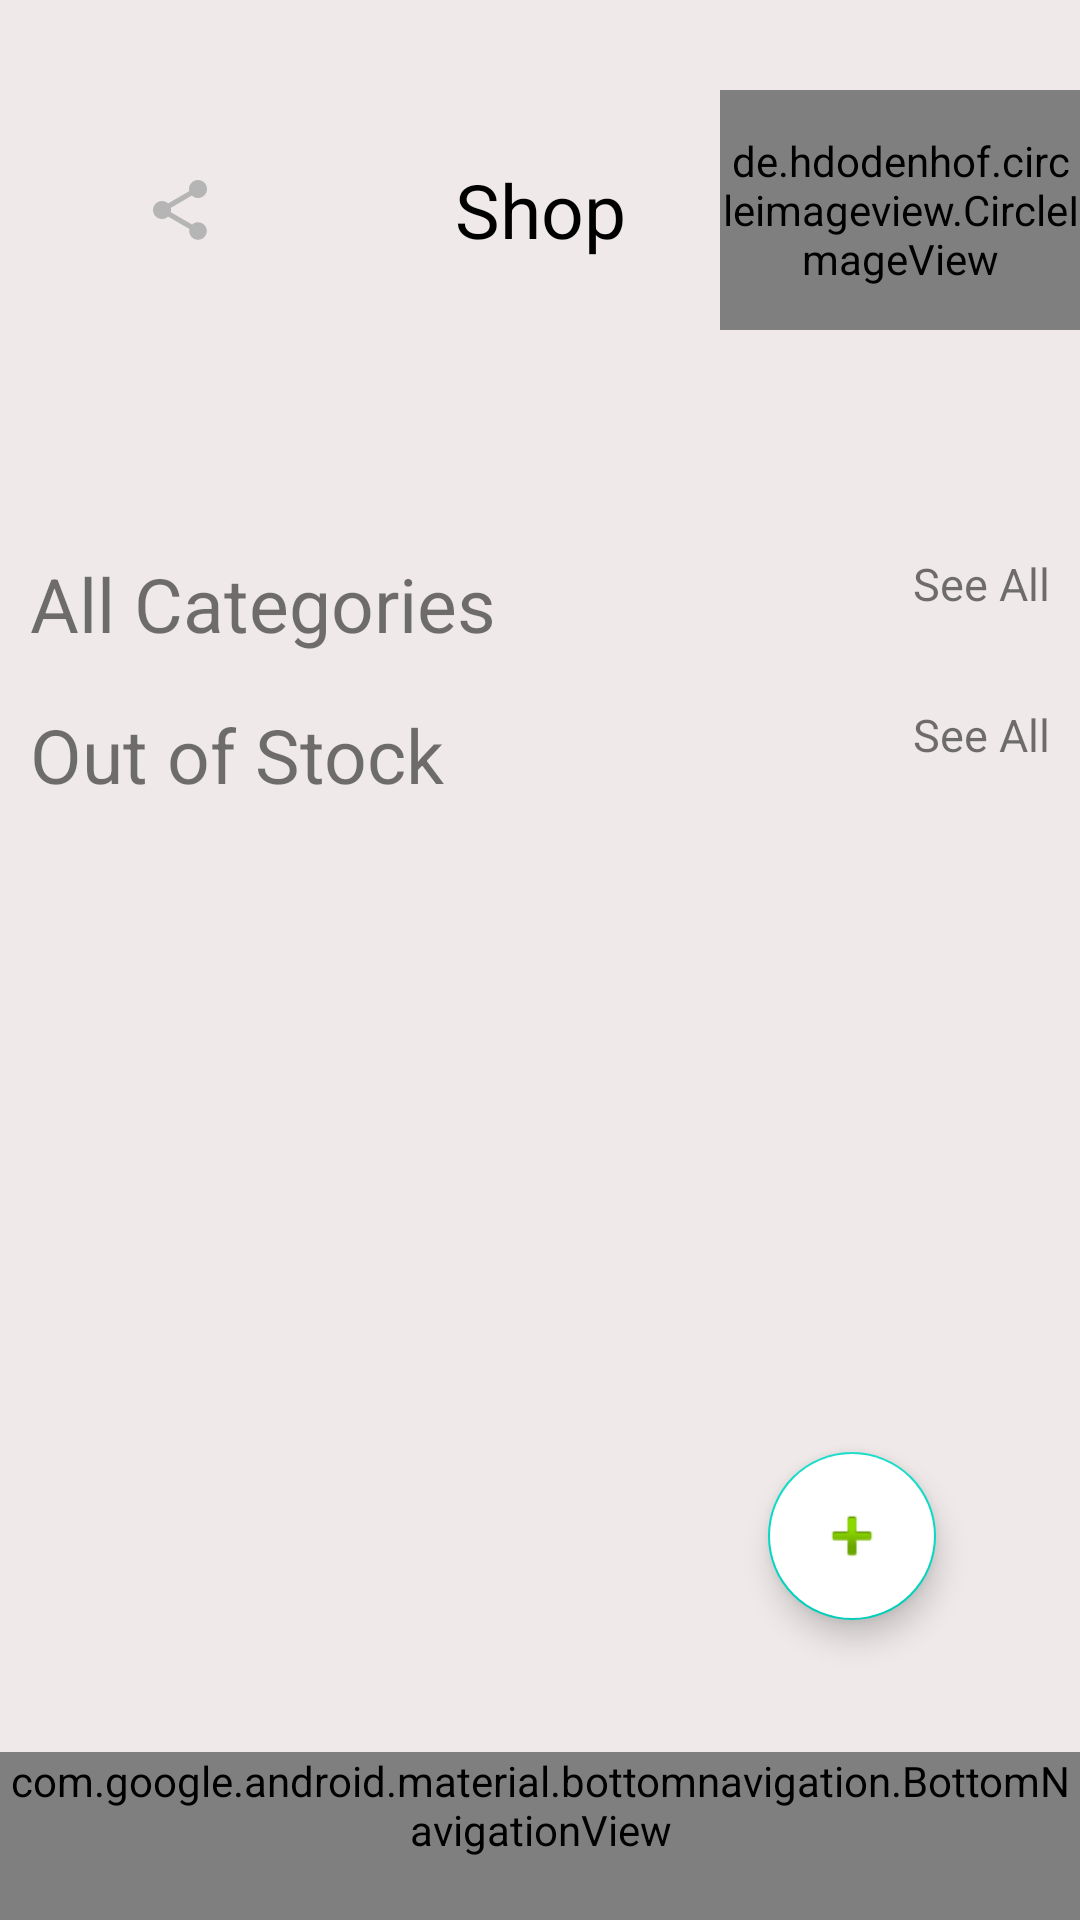

Where icons sit on this 1080px×1920px app screen, as box(x1, y1, x2, y2):
add: box(768, 1452, 936, 1620)
share: box(153, 180, 207, 240)
